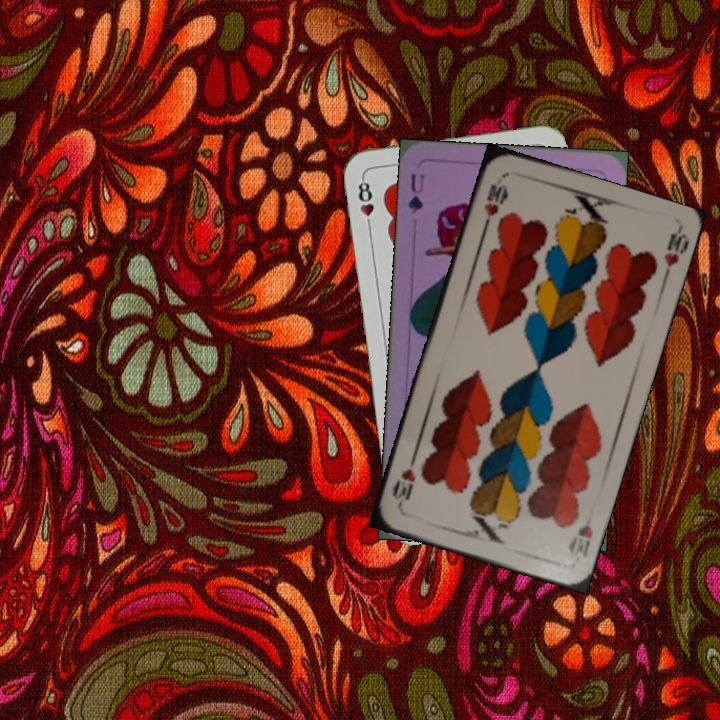GU: (404, 169, 426, 217)
H10: (564, 510, 596, 560), (479, 180, 510, 231)
H8: (354, 173, 377, 232)
